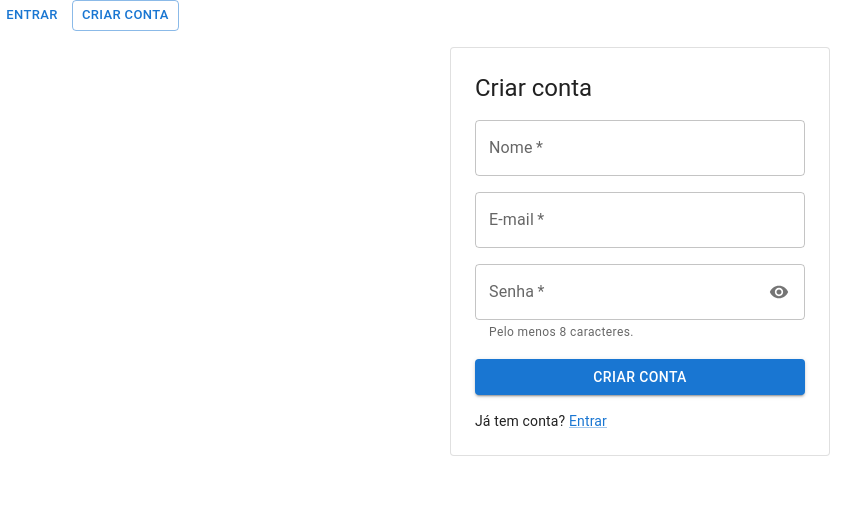
login and registration › checks the registration only when it is sent
In the field labelled "E-mail *": (640, 220) x1=475 y1=192 x2=805 y2=248, type "ana@"
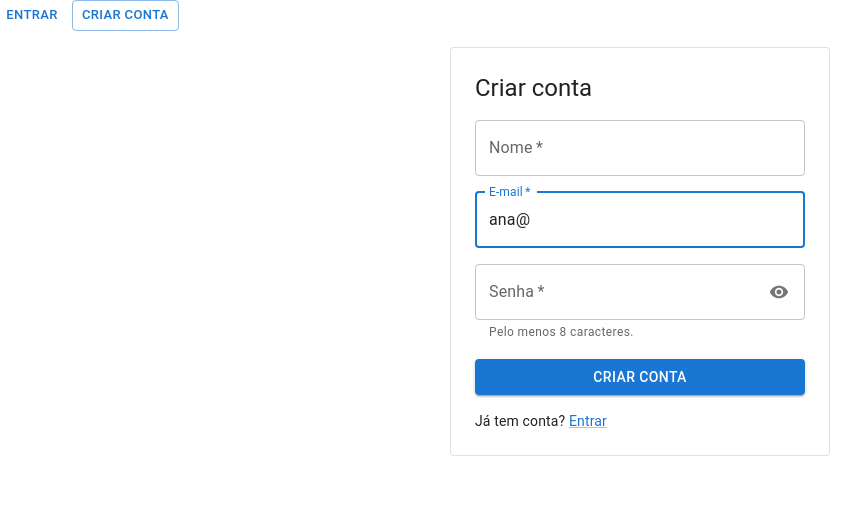
Press Tab
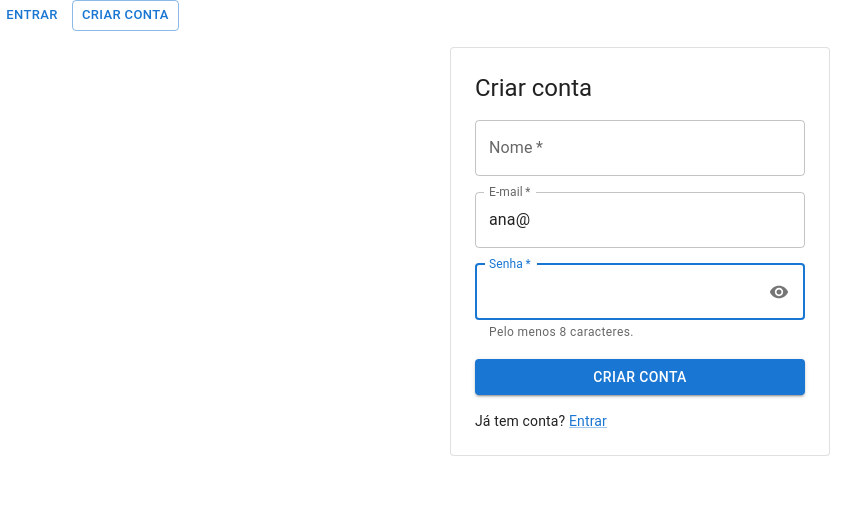
Expected: the text "Informe um e-mail válido." is not shown
Click the button "Criar conta": (640, 377) x1=475 y1=359 x2=805 y2=395
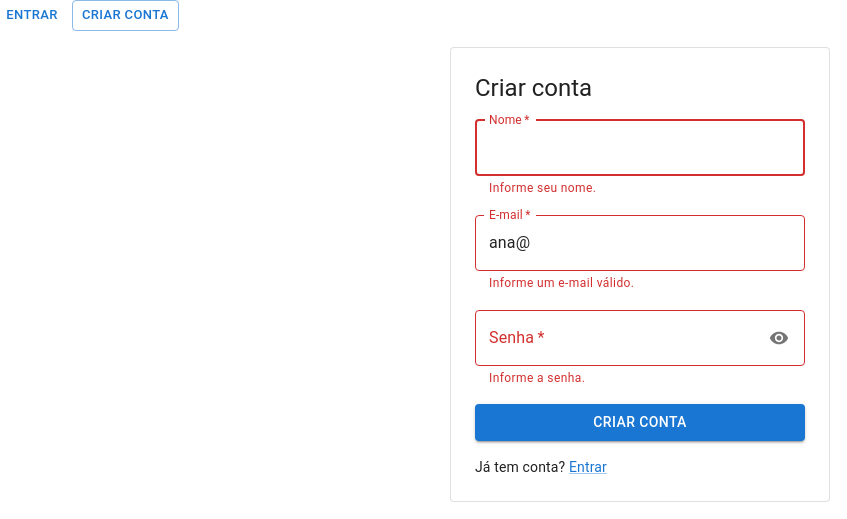
Result: the text "Informe um e-mail válido." is shown at x1=489 y1=276 x2=634 y2=290
# Corrected but not sent again: the message stays until the next submit.
In the field labelled "E-mail *": (640, 243) x1=475 y1=215 x2=805 y2=271, type "example.com"
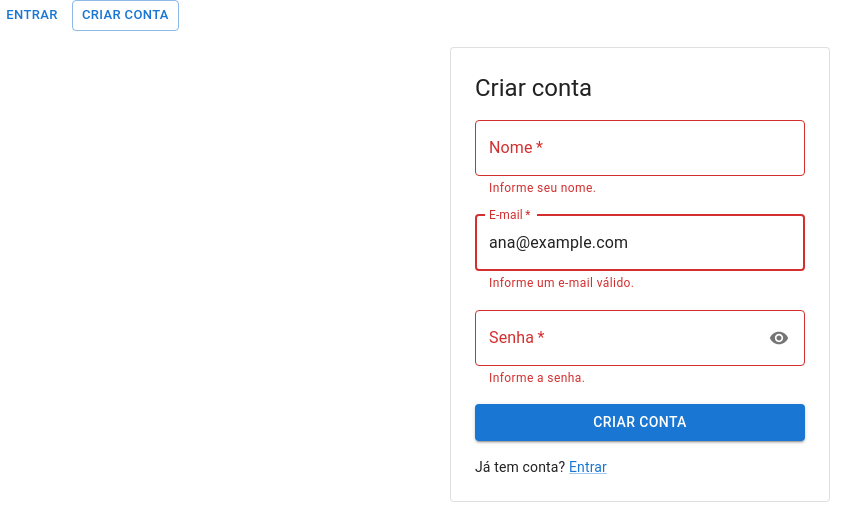
Result: the text "Informe um e-mail válido." is shown at x1=489 y1=276 x2=634 y2=290
Click the button "Criar conta": (640, 423) x1=475 y1=404 x2=805 y2=441
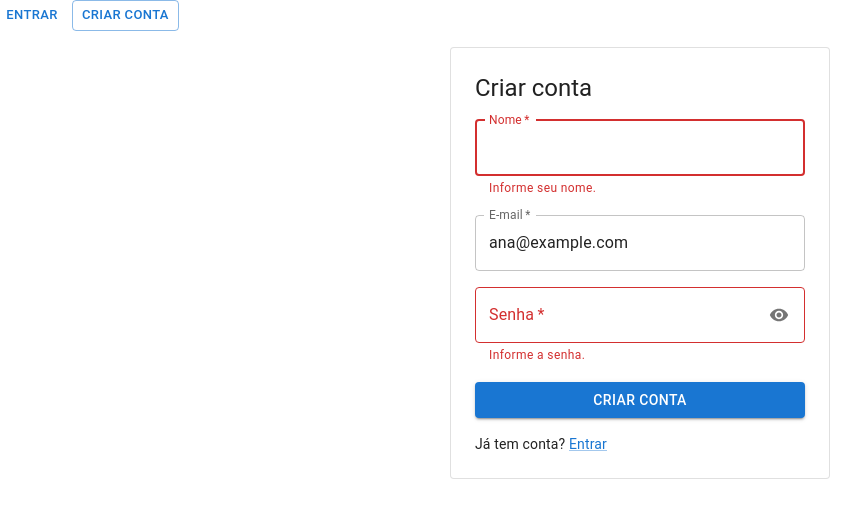
Result: the text "Informe um e-mail válido." is gone
